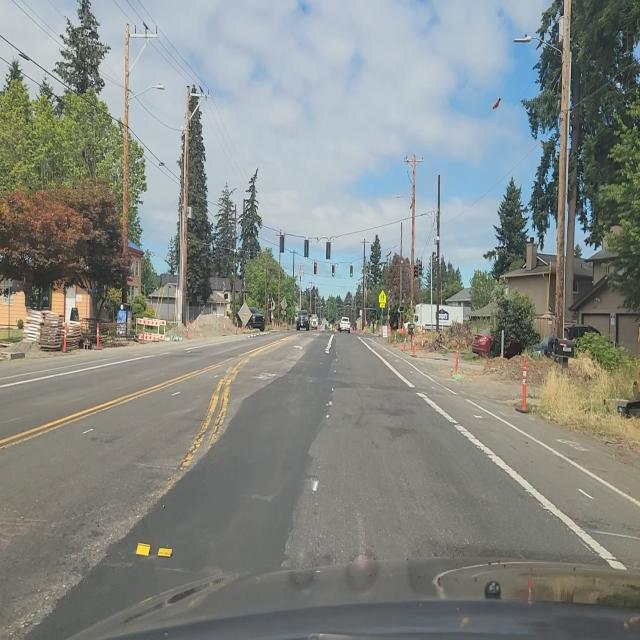car: (246, 308, 266, 332), (296, 310, 310, 331), (338, 316, 351, 332), (310, 315, 318, 329)
crosswalk-sign: (379, 290, 387, 307)
delineator: (520, 354, 528, 414), (452, 344, 462, 382), (382, 328, 392, 349), (62, 322, 68, 352), (96, 322, 100, 350), (412, 331, 416, 356), (402, 331, 406, 352), (420, 332, 424, 352), (393, 328, 397, 346), (396, 329, 400, 345), (387, 327, 391, 342), (186, 321, 189, 338), (223, 320, 226, 336), (235, 321, 238, 334), (317, 322, 320, 332)
